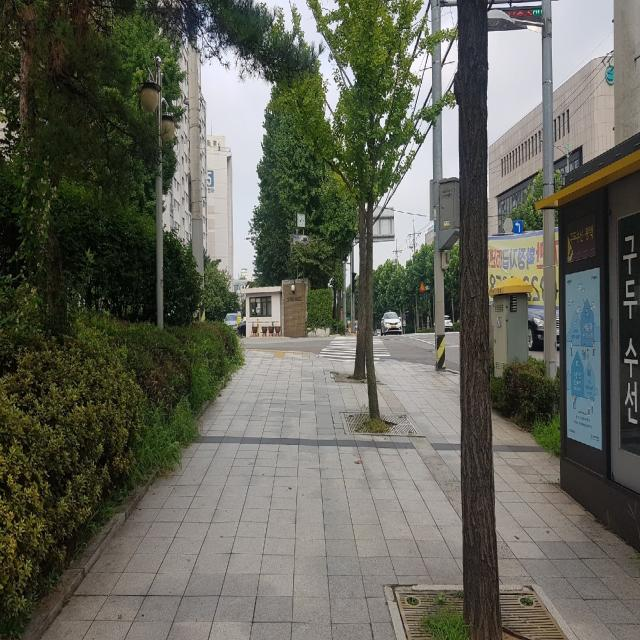횡단보도: (318, 336, 391, 363)
